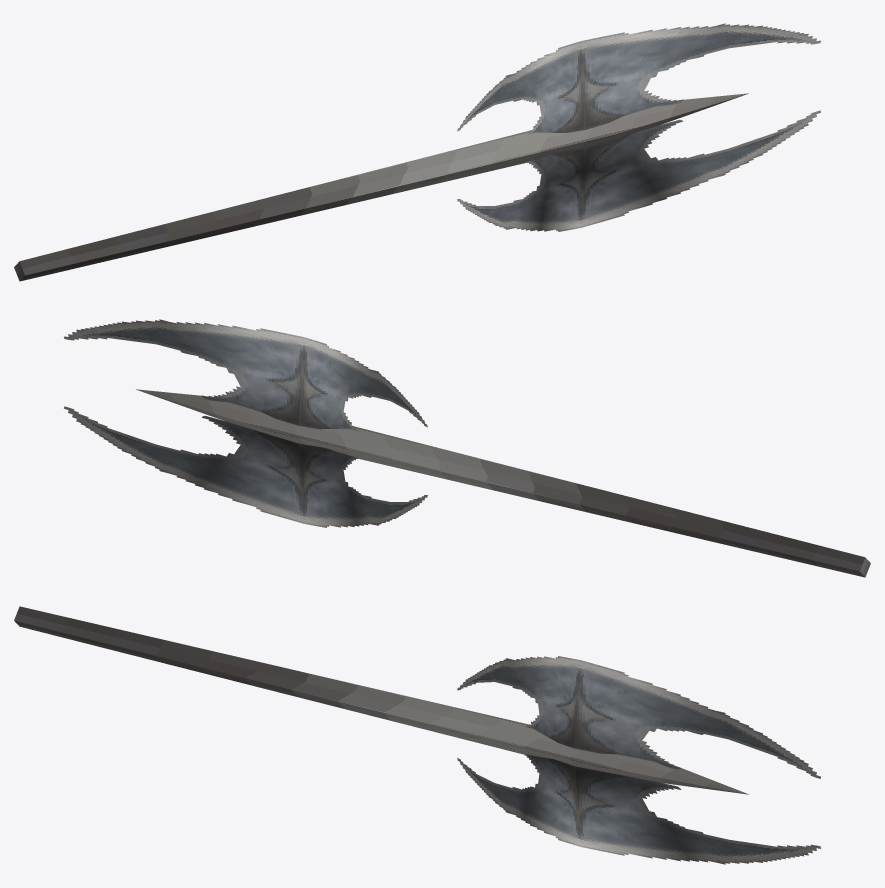
3 views of the same model, one above another, from view 1: azimuth 30°, elevation 25°; view 2: azimuth 150°, elevation 25°; view 3: azimuth 330°, elevation 25° (orthographic).
Visible parts, largest first — view 1: it80; view 2: it80; view 3: it80.
Part boxes in pixels (x1,y1,x2,y2): it80: (14,23,820,281); it80: (64,319,870,577); it80: (14,606,820,864).
Bounding box in the file's own units: 5.74 × 1.22 × 0.2019.
2 materials, 2 textured.
